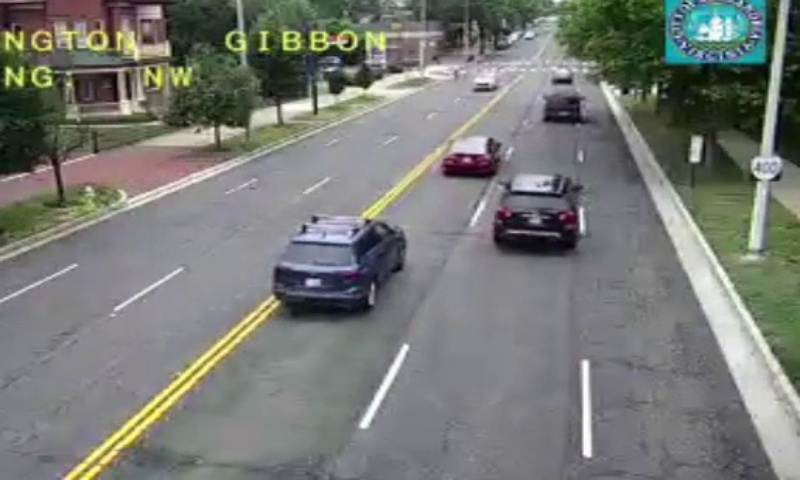car: (270, 216, 407, 303), (493, 175, 578, 244), (442, 135, 496, 175), (543, 90, 580, 122)
